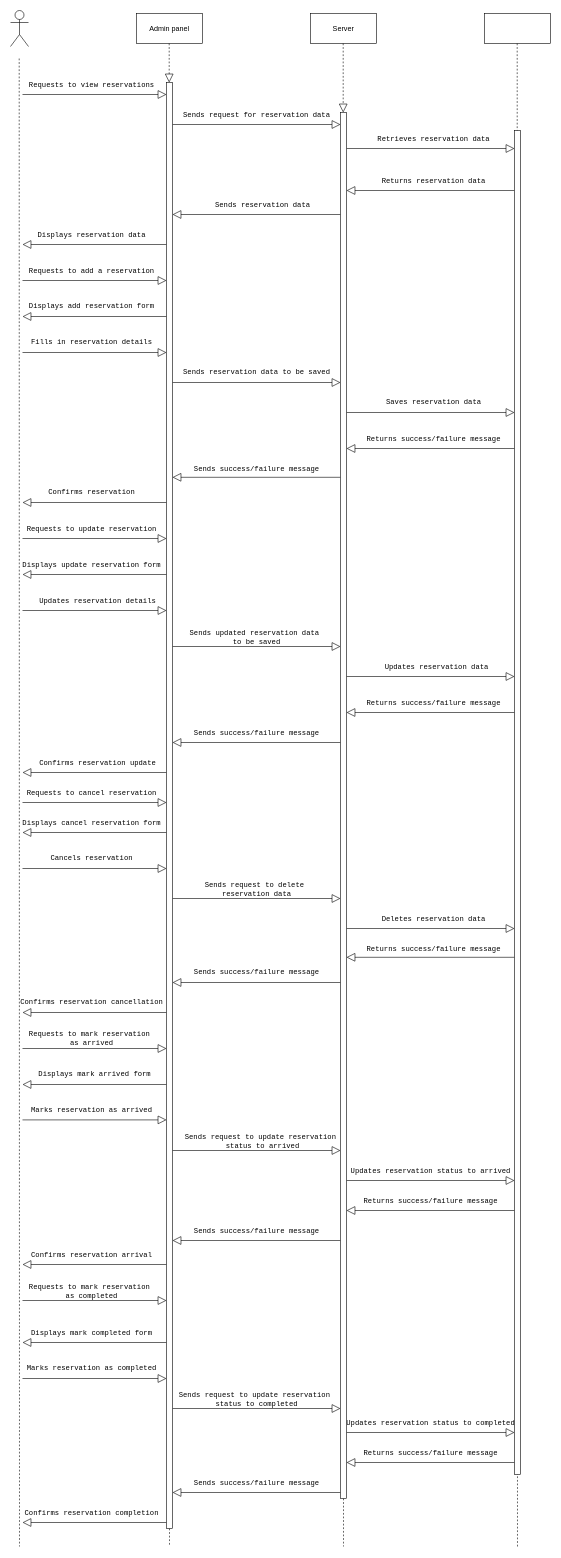
The diagram is 561 pixels wide and 1558 high, and some of its shapes have lost their labels. Here are the shapes that lost their labels. From the top down, the centre of each, then its label:
the point at 19,28: Actor
the point at 517,28: Database
